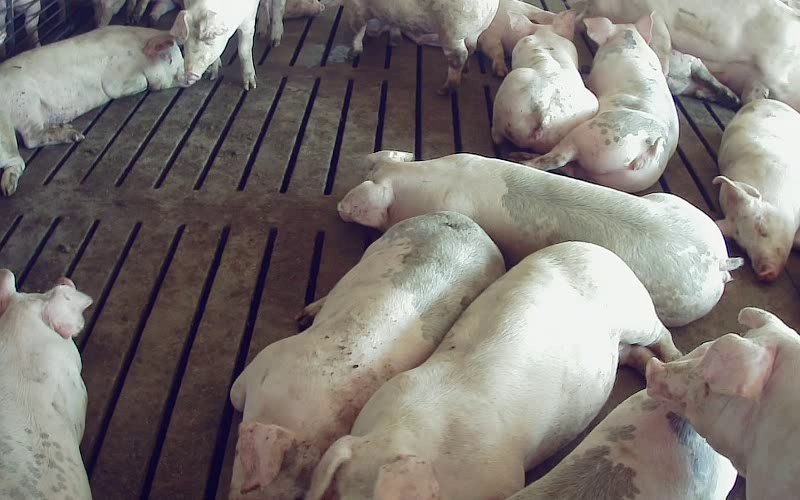pig: (338, 151, 742, 326), (646, 308, 799, 499), (508, 390, 736, 499), (576, 0, 799, 111), (0, 26, 184, 147), (714, 99, 799, 281), (492, 10, 598, 153), (344, 0, 498, 92), (170, 0, 285, 89)
